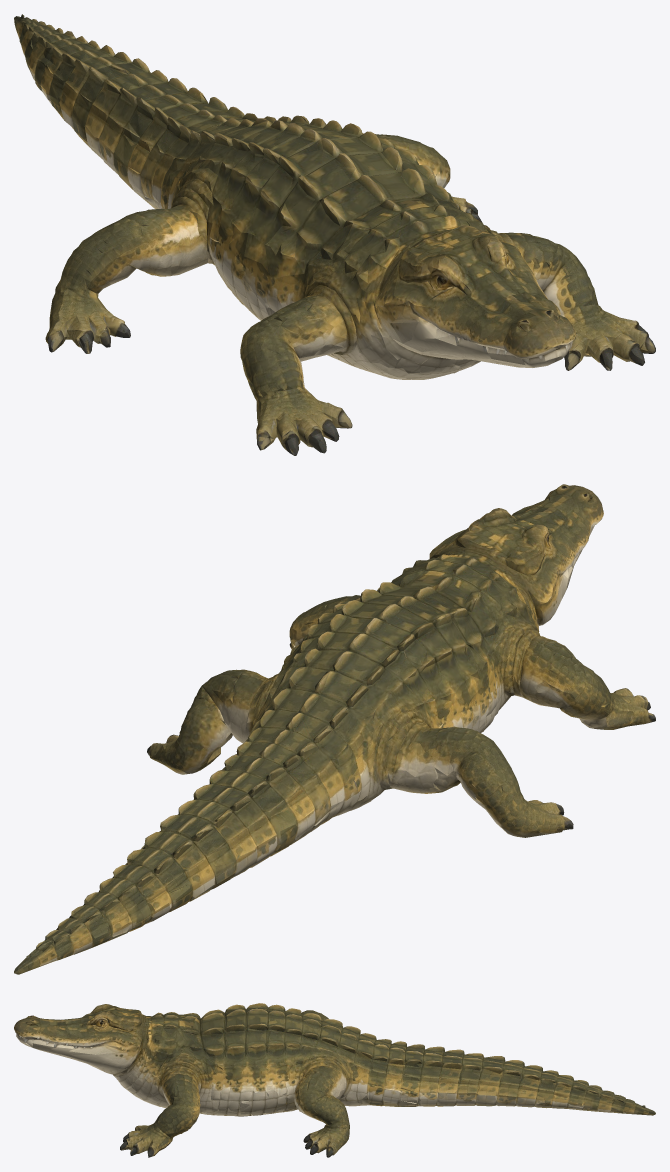
The model's file is croc.glb.
The picture shows the model from 3 angles, top to bottom: view 1: azimuth 30°, elevation 25°; view 2: azimuth 150°, elevation 25°; view 3: azimuth 270°, elevation 25°; orthographic projection. The views are drawn at different scales.
Bounding box in the file's own units: 0.8438 × 0.3111 × 1.9.
1 material, 1 textured.
